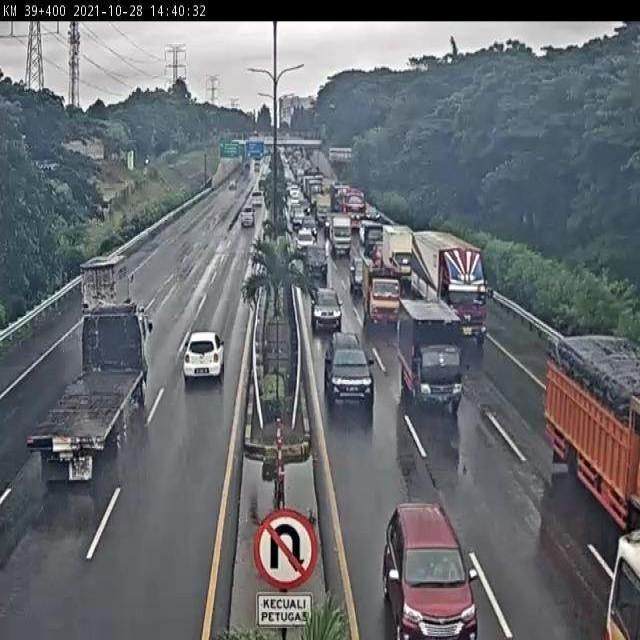big truck: (26, 307, 150, 477)
car: (383, 500, 477, 640), (323, 332, 377, 408), (183, 331, 223, 380), (311, 283, 343, 329), (348, 253, 380, 290), (302, 241, 330, 283)
small truck: (80, 256, 128, 315)
truck-l-: (545, 332, 640, 527), (412, 227, 486, 333)
truck-m-: (397, 301, 460, 411), (379, 227, 416, 292), (363, 273, 401, 331)
